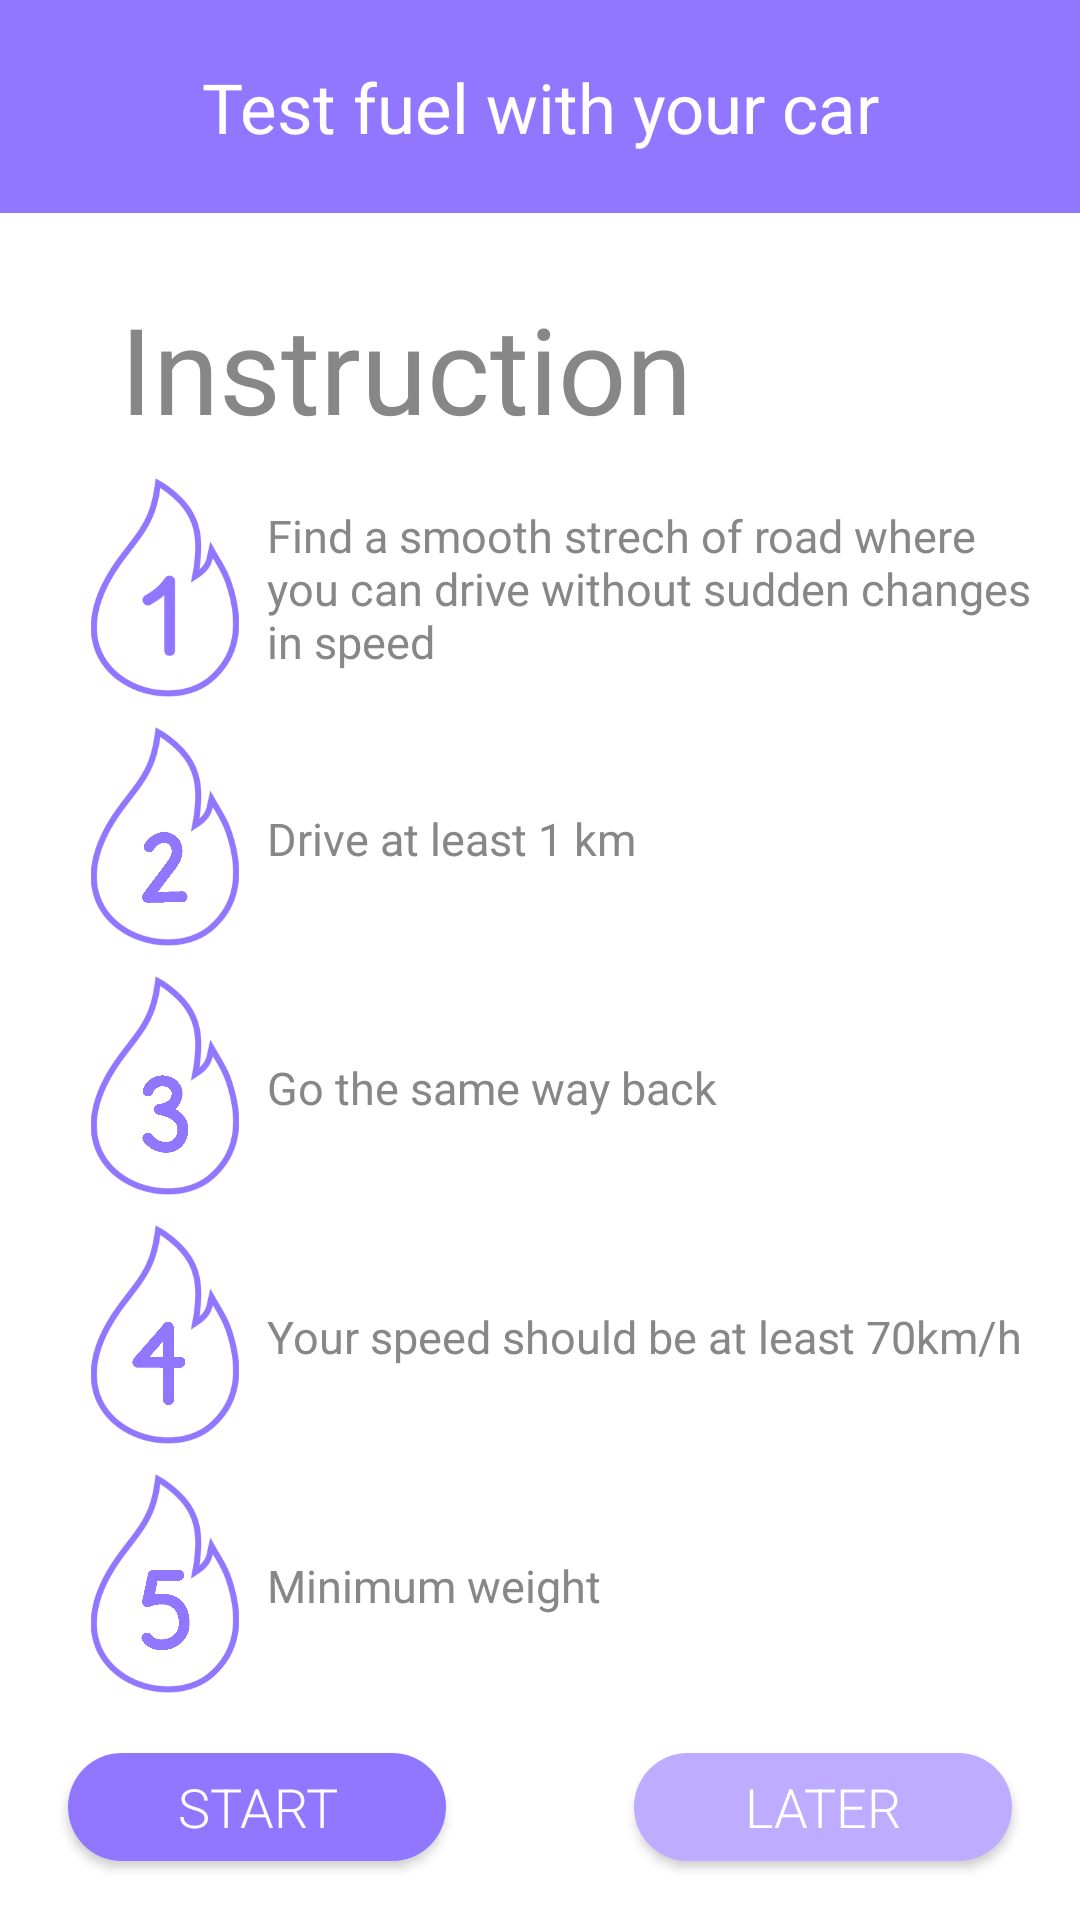

Point at icon controls on the screen. Image size 1080w x 1920h, points as (x=x, y=y).
fire: (x=165, y=588), (x=165, y=836), (x=165, y=1085), (x=165, y=1334), (x=165, y=1583)
